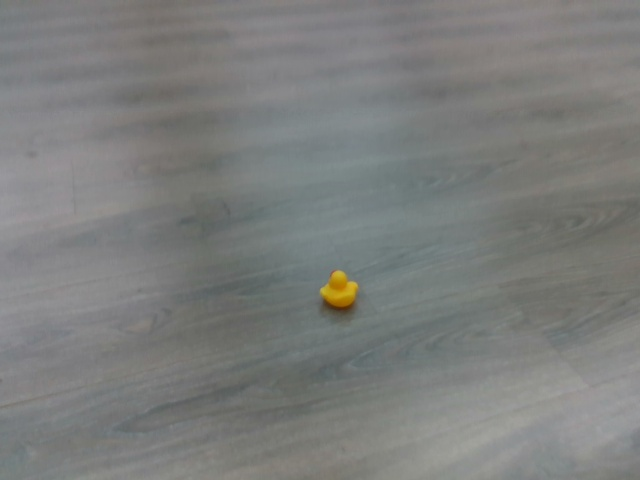duck: (316, 268, 364, 310)
